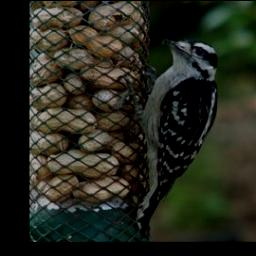Woodpecker: (115, 35, 231, 236)
